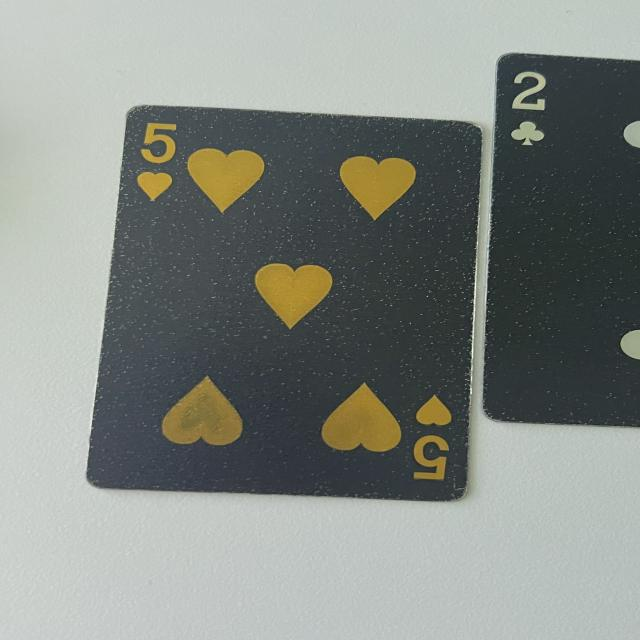2C: (499, 61, 563, 156)
5H: (132, 116, 188, 206), (409, 390, 458, 484)
